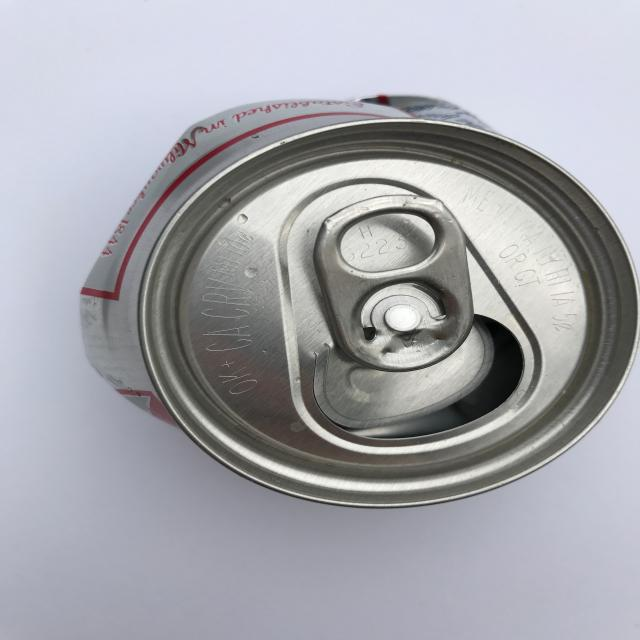metal: (78, 91, 640, 509)
